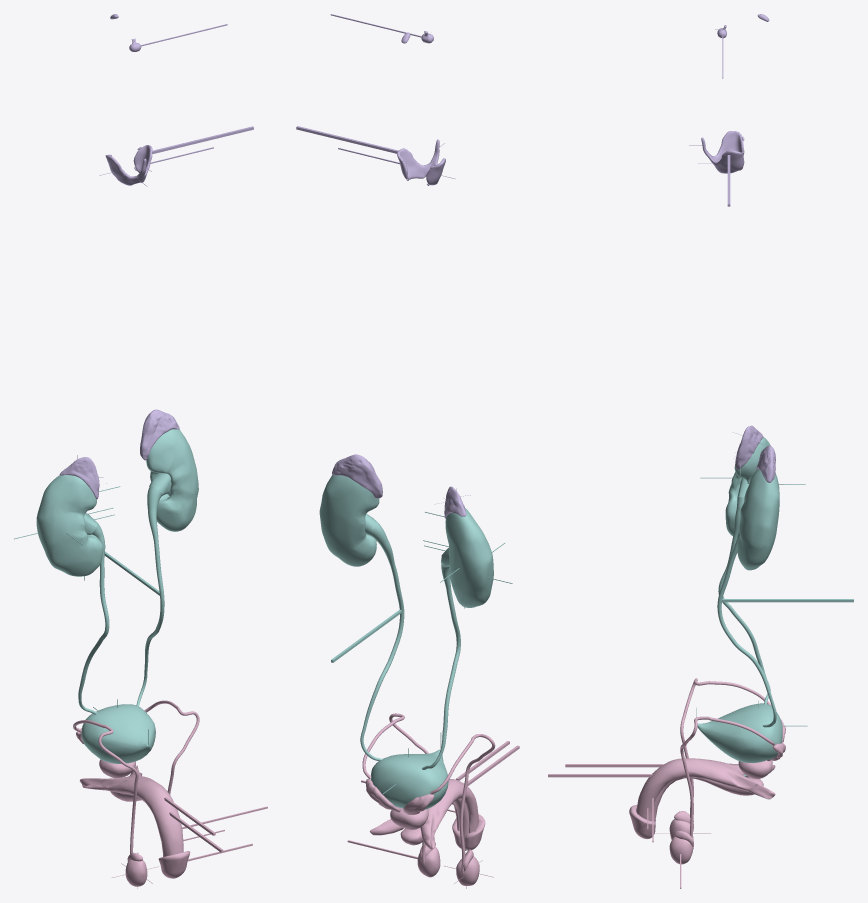
The model's file is visceral-extra.glb.
The picture shows the model from 3 angles, left to right: view 1: azimuth 30°, elevation 25°; view 2: azimuth 150°, elevation 25°; view 3: azimuth 270°, elevation 25°; orthographic projection. The views are drawn at different scales.
Parts seen in each view (by area): view 1: Kidney.r, Kidney.l, Urinary bladder, Corpus cavernosum of penis, Ureter.l, Suprarenal gland.l, Ureter.r, Thyroid gland, Suprarenal gland.r, Ductus deferens.r, Glans penis, Ductus deferens.l (+1 smaller); view 2: Kidney.l, Kidney.r, Urinary bladder, Corpus cavernosum of penis, Ureter.l, Suprarenal gland.l, Ureter.r, Thyroid gland, Ductus deferens.r, Ductus deferens.l, Corpus spongiosum of penis, Prostate (+4 smaller); view 3: Urinary bladder, Kidney.l, Corpus cavernosum of penis, Kidney.r, Thyroid gland, Ureter.l, Ureter.r, Ductus deferens.l, Suprarenal gland.r, Ductus deferens.r.
Boxes of the visible parts, x1=… form: Kidney.r: x1=36, y1=475, x2=103, y2=576; Kidney.l: x1=146, y1=429, x2=198, y2=531; Urinary bladder: x1=81, y1=704, x2=155, y2=763; Corpus cavernosum of penis: x1=79, y1=765, x2=183, y2=856; Ureter.l: x1=136, y1=487, x2=164, y2=706; Suprarenal gland.l: x1=140, y1=409, x2=179, y2=460; Ureter.r: x1=78, y1=523, x2=109, y2=714; Thyroid gland: x1=105, y1=145, x2=152, y2=185; Suprarenal gland.r: x1=59, y1=457, x2=99, y2=499; Ductus deferens.r: x1=73, y1=720, x2=138, y2=853; Glans penis: x1=158, y1=851, x2=190, y2=878; Ductus deferens.l: x1=144, y1=700, x2=199, y2=794; Kidney.l: x1=319, y1=475, x2=379, y2=566; Kidney.r: x1=445, y1=508, x2=493, y2=607; Urinary bladder: x1=370, y1=749, x2=448, y2=809; Corpus cavernosum of penis: x1=370, y1=779, x2=478, y2=849; Ureter.l: x1=360, y1=522, x2=404, y2=761; Suprarenal gland.l: x1=332, y1=454, x2=382, y2=498; Ureter.r: x1=422, y1=558, x2=460, y2=769; Thyroid gland: x1=396, y1=139, x2=445, y2=185; Ductus deferens.r: x1=430, y1=734, x2=495, y2=875; Ductus deferens.l: x1=362, y1=713, x2=428, y2=865; Corpus spongiosum of penis: x1=400, y1=798, x2=469, y2=848; Prostate: x1=390, y1=807, x2=428, y2=829; Urinary bladder: x1=697, y1=703, x2=782, y2=762; Kidney.l: x1=737, y1=468, x2=779, y2=570; Corpus cavernosum of penis: x1=636, y1=758, x2=775, y2=820; Kidney.r: x1=725, y1=437, x2=770, y2=537; Thyroid gland: x1=701, y1=131, x2=744, y2=173; Ureter.l: x1=717, y1=533, x2=776, y2=727; Ureter.r: x1=718, y1=497, x2=770, y2=704; Ductus deferens.l: x1=680, y1=716, x2=774, y2=849; Suprarenal gland.r: x1=735, y1=425, x2=763, y2=469; Ductus deferens.r: x1=680, y1=678, x2=771, y2=830.
Size of the model in its own units: 0.2481 by 0.8967 by 0.2945.
